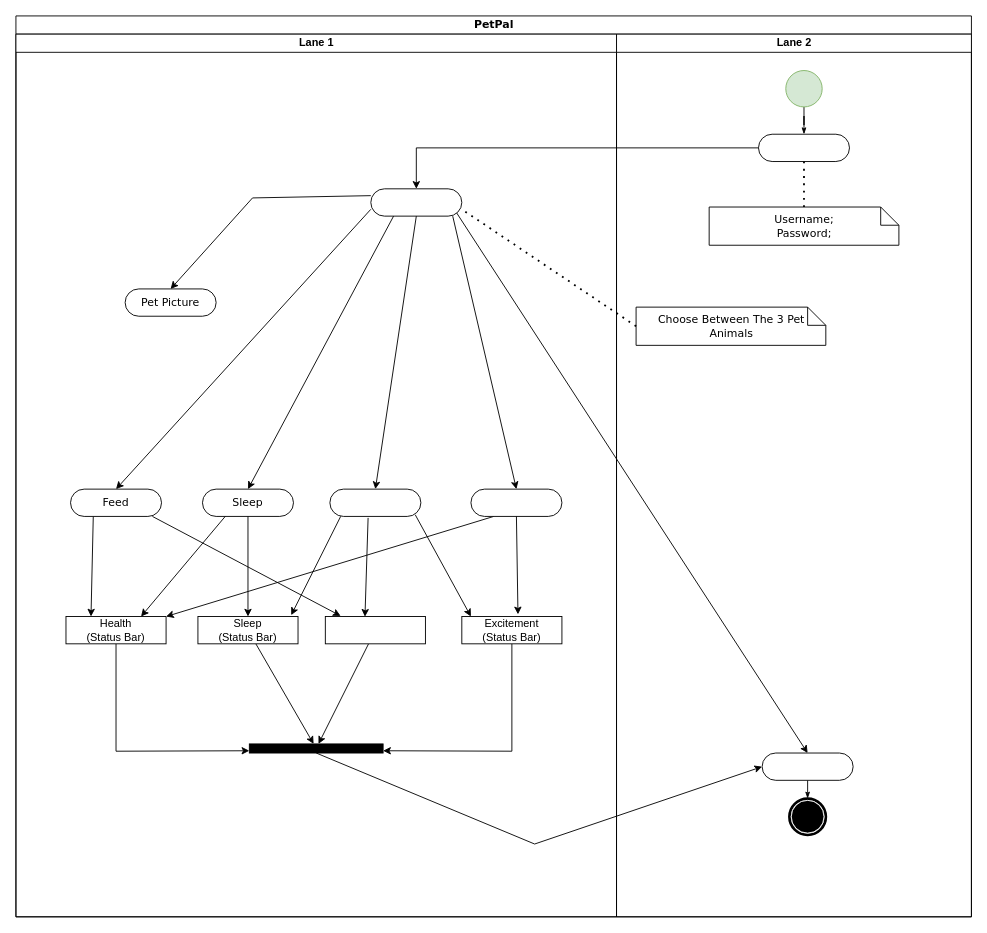
Some shapes in this 987 by 933 pixel diagram are drawn without their labels. Each missing label, with the centre of its shape:
Choose Pet: (416,202)
Close App: (807,766)
Food (Status Bar): (374,630)
Login: (803,147)
Pet: (516,502)
Play: (375,502)
